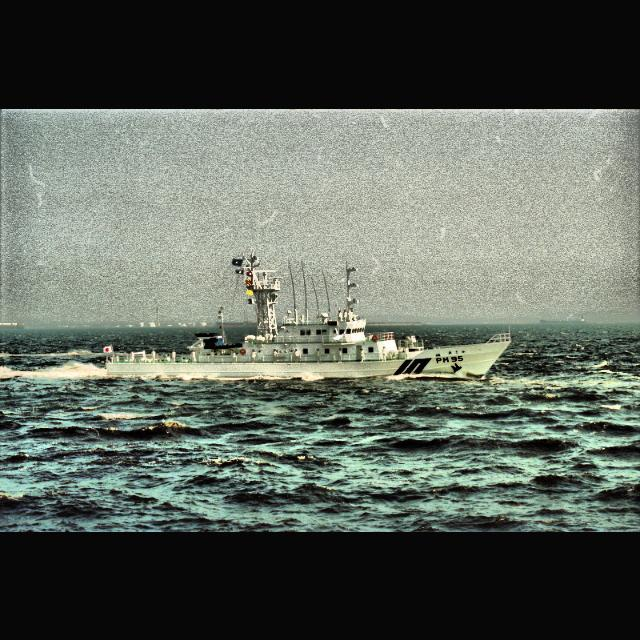patrol_vessel: (101, 246, 515, 378)
